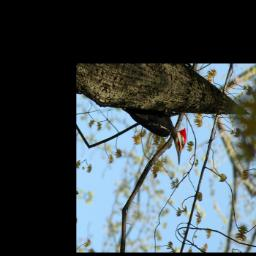Woodpecker: (111, 93, 194, 169)
